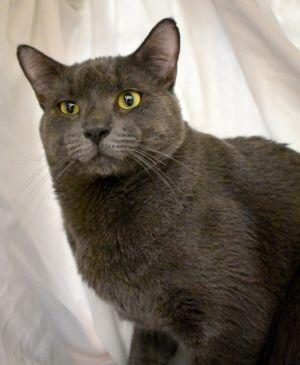rblue: (4, 5, 206, 199)
